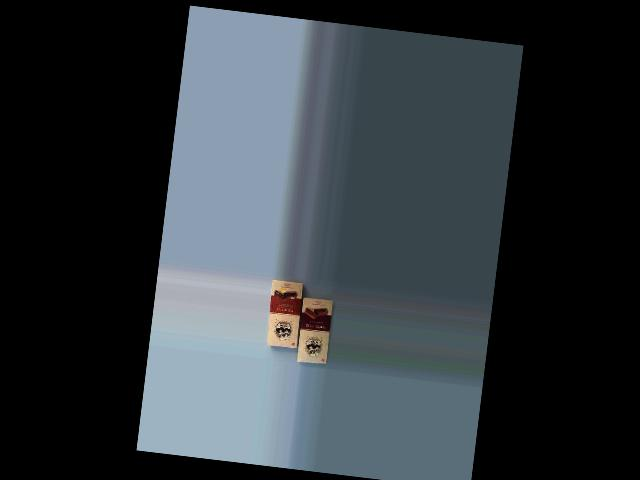chocolate: (263, 277, 311, 352)
